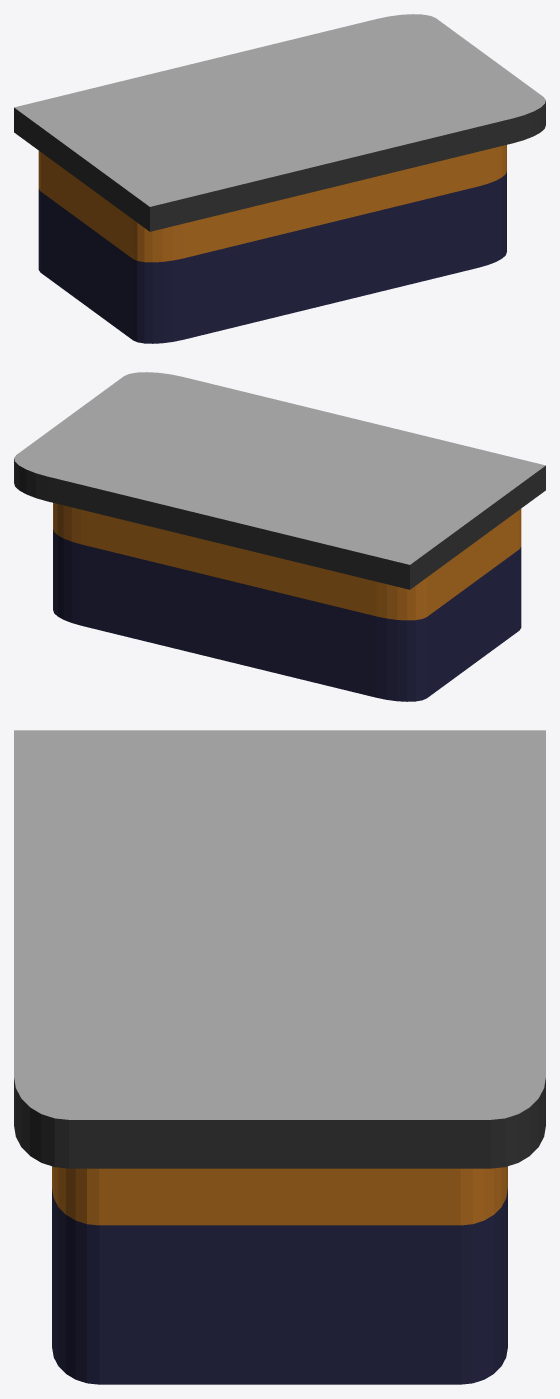
File: CounterEnd.glb
The picture shows the model from 3 angles, top to bottom: view 1: azimuth 30°, elevation 25°; view 2: azimuth 150°, elevation 25°; view 3: azimuth 270°, elevation 25°; orthographic projection. The views are drawn at different scales.
Visible parts, largest first — view 1: CounterTop, Counter; view 2: CounterTop, Counter; view 3: CounterTop, Counter.
Boxes of the visible parts, bbox=[...] form: CounterTop: bbox=[14, 14, 545, 231]; Counter: bbox=[38, 145, 506, 343]; CounterTop: bbox=[14, 372, 545, 589]; Counter: bbox=[53, 503, 521, 701]; CounterTop: bbox=[14, 730, 545, 1168]; Counter: bbox=[52, 1166, 507, 1384].
Size of the model in its own units: 0.9116 by 0.3213 by 0.5261.
